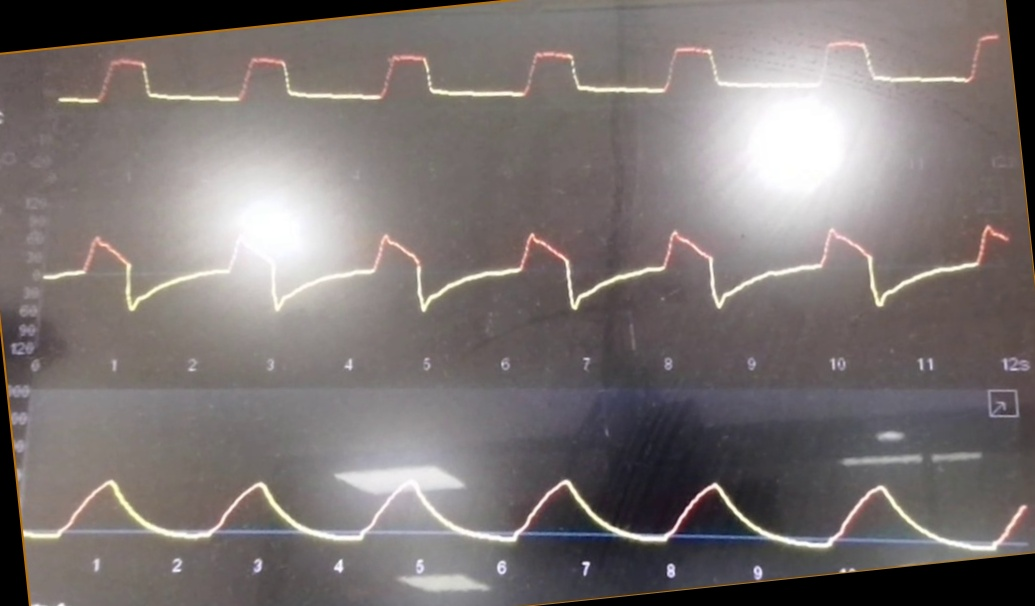Normal Flow: (46, 196, 1014, 340)
Normal Volume: (26, 433, 1027, 550)
